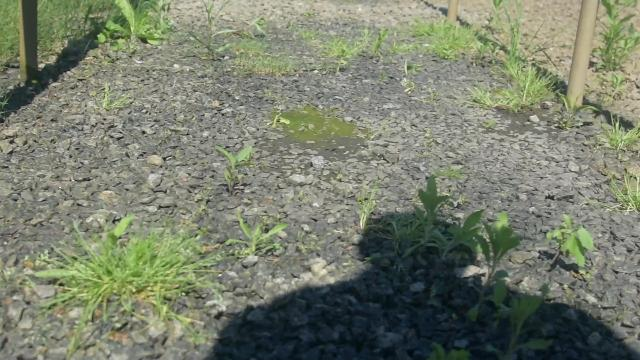MalezaMontesDelPlata: (24, 207, 226, 357), (422, 208, 554, 360), (358, 171, 480, 272), (467, 0, 553, 112), (94, 0, 178, 52), (590, 0, 640, 78), (405, 13, 479, 61), (540, 213, 598, 274), (197, 0, 262, 54), (221, 214, 292, 259), (228, 38, 300, 77), (314, 21, 374, 63), (551, 85, 602, 133), (597, 158, 640, 213), (213, 135, 255, 190), (82, 77, 147, 112), (594, 110, 640, 152), (363, 18, 395, 61), (286, 22, 325, 40)
MusgoMontesDelPlata: (261, 99, 379, 142)
